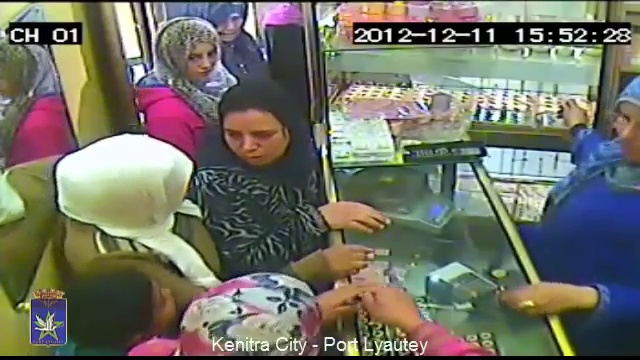face: (221, 109, 281, 170), (616, 102, 640, 162), (181, 43, 217, 77), (217, 17, 242, 40)
